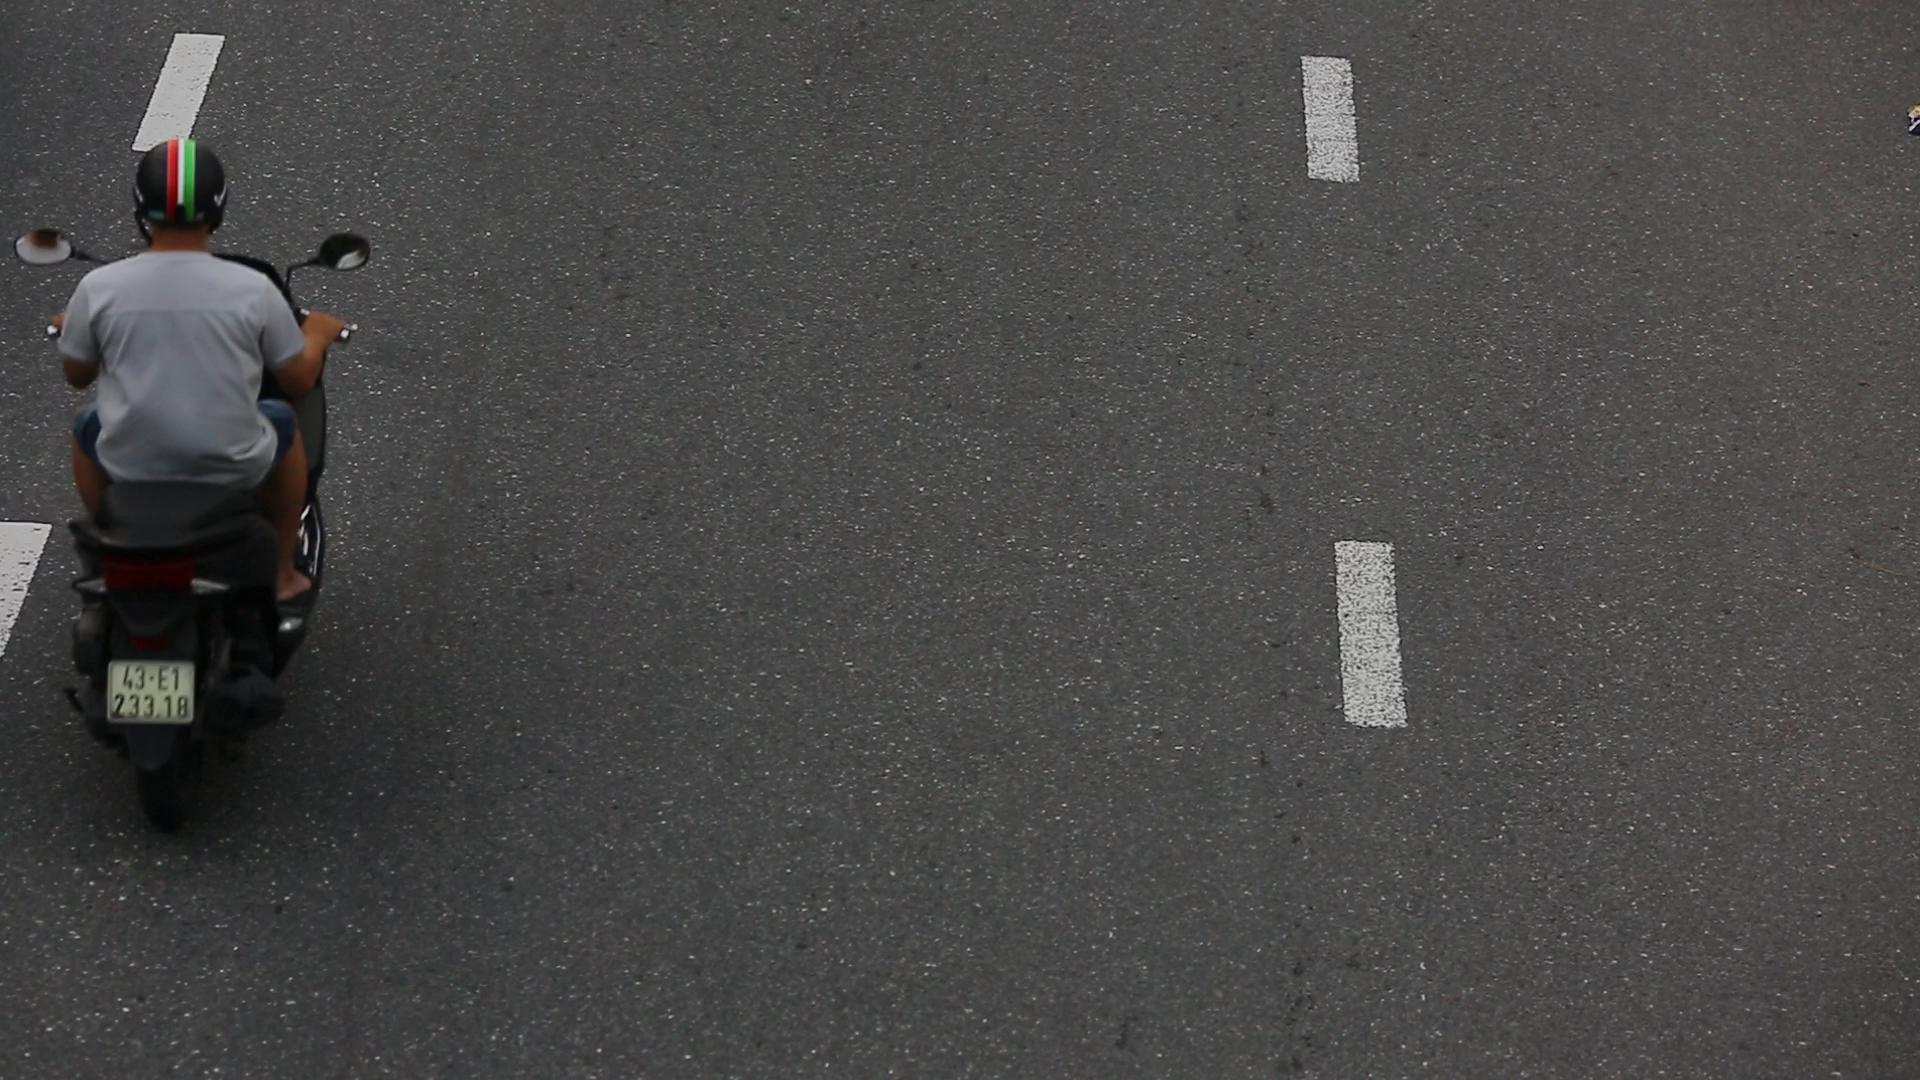motobike: (0, 127, 382, 829)
